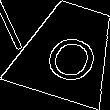O_N: (34, 20, 101, 82)
